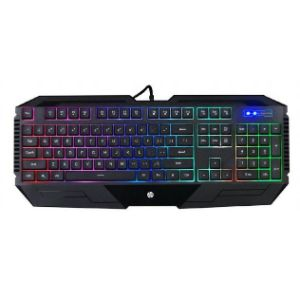keyboard: (13, 94, 290, 208)
